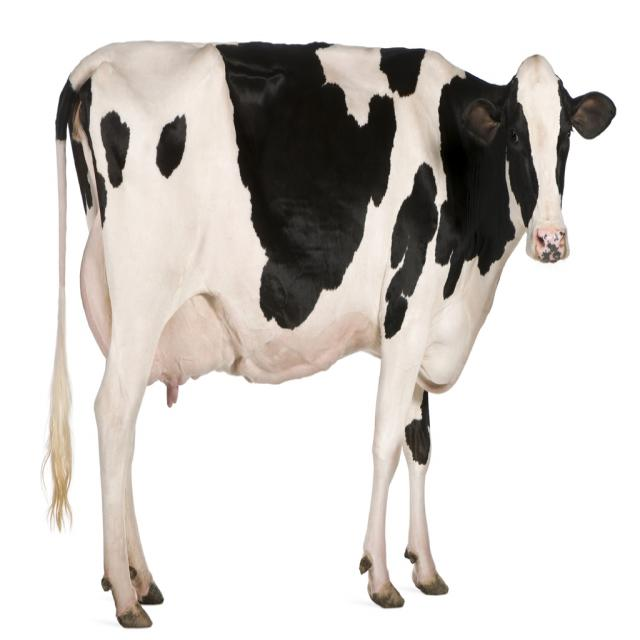Cattle: (41, 41, 616, 630)
